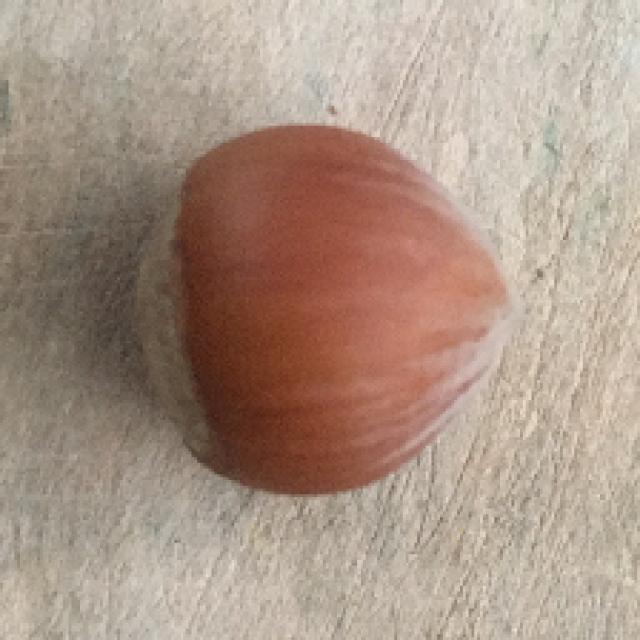qualityHazelnut: (128, 119, 518, 512)
